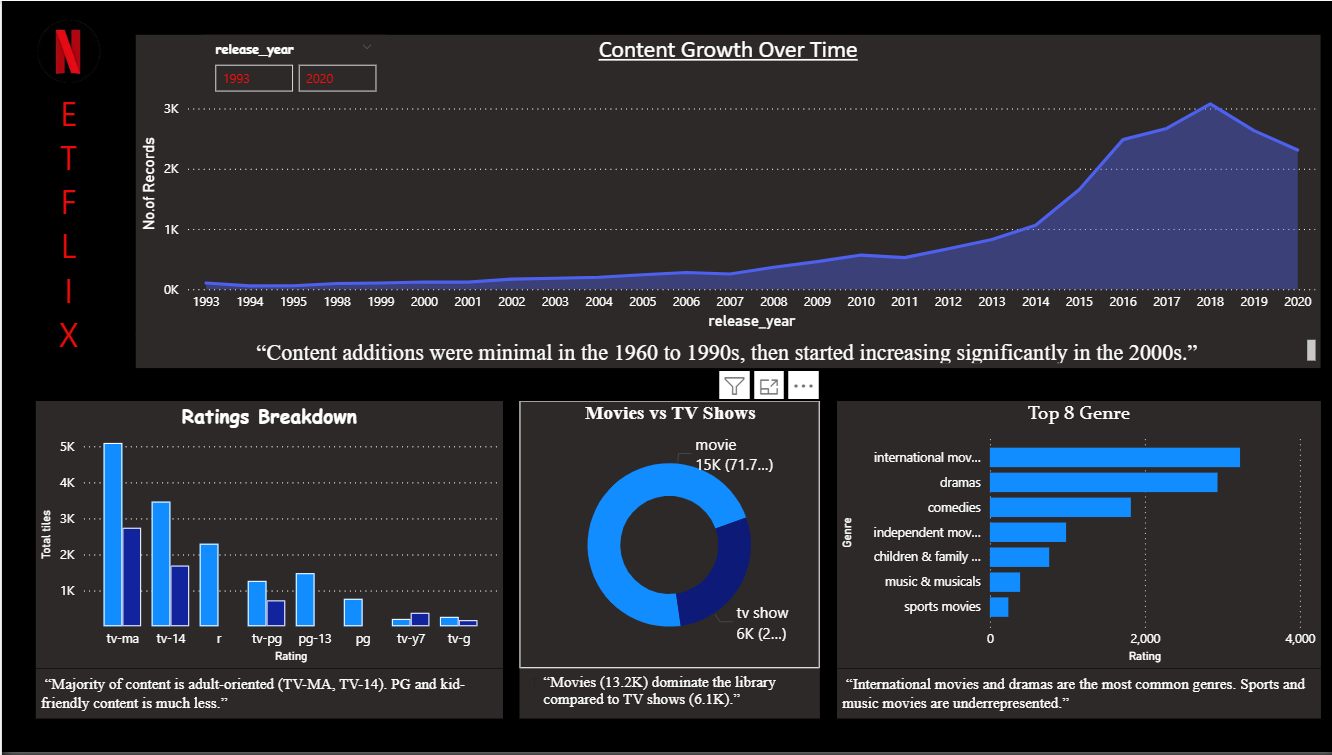

The dashboard page shown, as its layout file describes it:
{"tool":"powerbi","page":{"name":"Page 1","canvas":[1280,720],"ordinal":0},"visuals":[{"type":"donutChart","title":"Movies vs TV Shows","fields":{"Category":["cleaned_netflix.type"],"Y":["cleaned_netflix.count_type"]},"box":[496,384,288,256],"z":0},{"type":"clusteredColumnChart","title":"Ratings Breakdown","fields":{"Category":["cleaned_netflix.rating"],"Y":["CountNonNull(cleaned_netflix.title)"],"Series":["cleaned_netflix.type"]},"box":[32,384,448,256],"z":1000},{"type":"areaChart","title":"Content Growth Over Time","fields":{"Category":["cleaned_netflix.release_year"],"Y":["CountNonNull(cleaned_netflix.title)"]},"box":[128,32,1136,288],"z":2000},{"type":"clusteredBarChart","title":"Top 8 Genre","fields":{"Category":["cleaned_netflix.Genre"],"Y":["CountNonNull(cleaned_netflix.rating)"]},"box":[800,384,464,256],"z":3000},{"type":"textbox","box":[128,320,1136,32],"z":4000},{"type":"textbox","box":[496,640,288,48],"z":5000},{"type":"textbox","box":[32,640,448,48],"z":6000},{"type":"textbox","box":[800,640,464,48],"z":7000},{"type":"image","box":[16,0,96,96],"z":8000},{"type":"textbox","box":[48,80,32,272],"z":9000},{"type":"slicer","fields":{"Values":["cleaned_netflix.release_year"]},"box":[192,32,176,64],"z":10000}]}

Visuals, with their boxes in screenshot pixels (x1, y1, x2, y2), scaled from the page's 1280x720 canvas onto the 1332x755 screenshot:
"Movies vs TV Shows" donutChart: 516,403,816,671
"Ratings Breakdown" clusteredColumnChart: 33,403,499,671
"Content Growth Over Time" areaChart: 133,34,1315,336
"Top 8 Genre" clusteredBarChart: 832,403,1315,671
textbox: 133,336,1315,369
textbox: 516,671,816,721
textbox: 33,671,499,721
textbox: 832,671,1315,721
image: 17,0,117,101
textbox: 50,84,83,369
slicer - cleaned_netflix.release_year: 200,34,383,101
